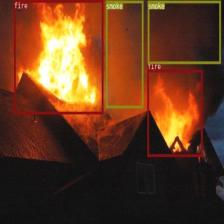fire: (14, 0, 103, 114), (147, 69, 202, 156)
smoke: (147, 0, 220, 63), (105, 0, 143, 107)
